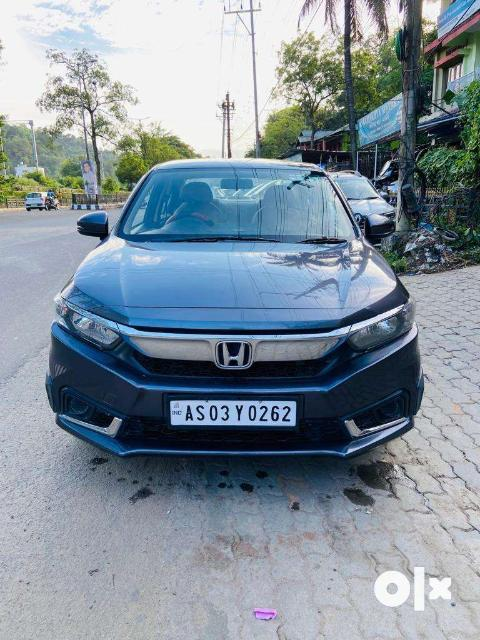Indian_Number_Plate: (168, 398, 300, 428)
